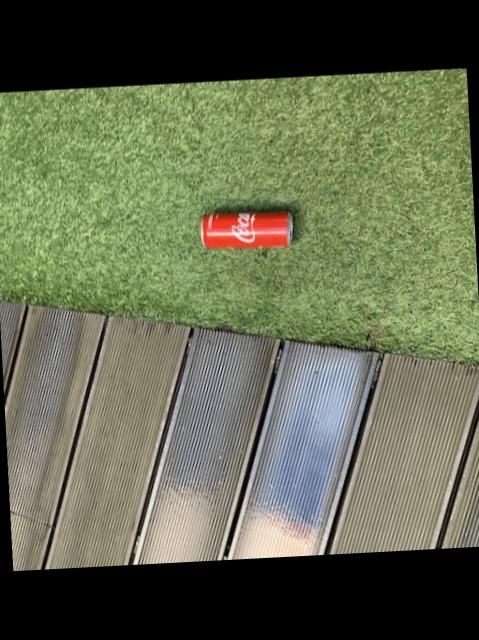metal: (200, 211, 291, 248)
